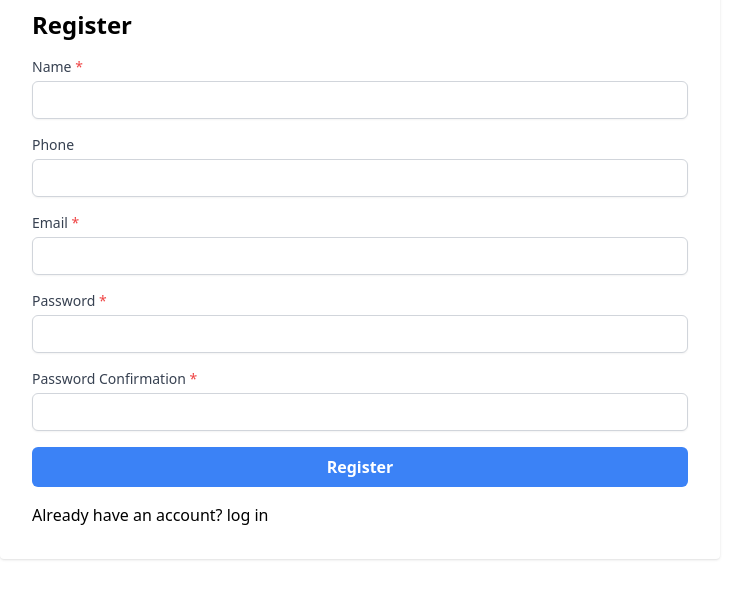
Test: Register page tests › Form validation › Email should be required
Type "email@test.com" into the field with id "email" at {"x": 360, "y": 256}, box [32,237,688,275]
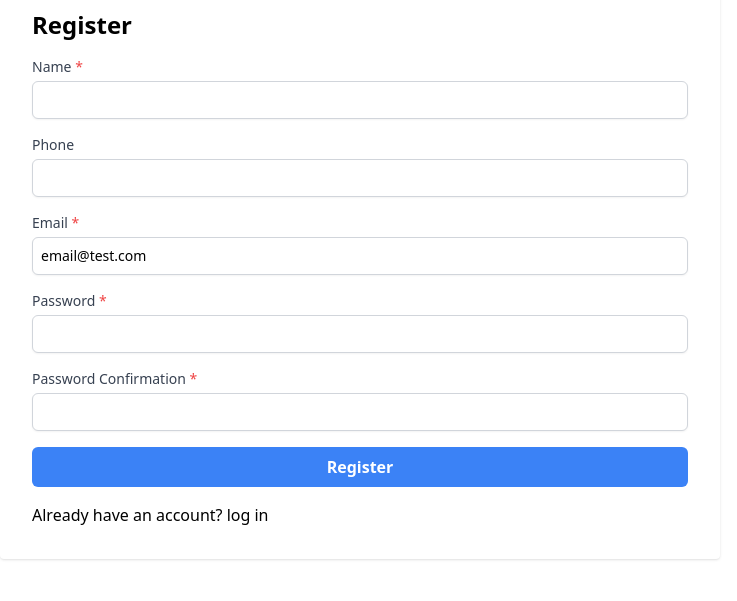
Clear the field with id "email" at {"x": 360, "y": 256}, box [32,237,688,275]
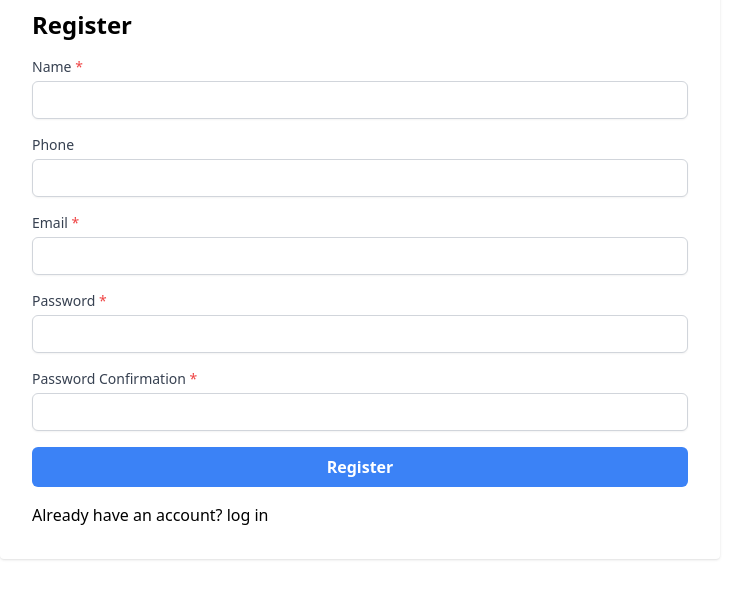
Leave the field with id "email", box [32,237,688,275]
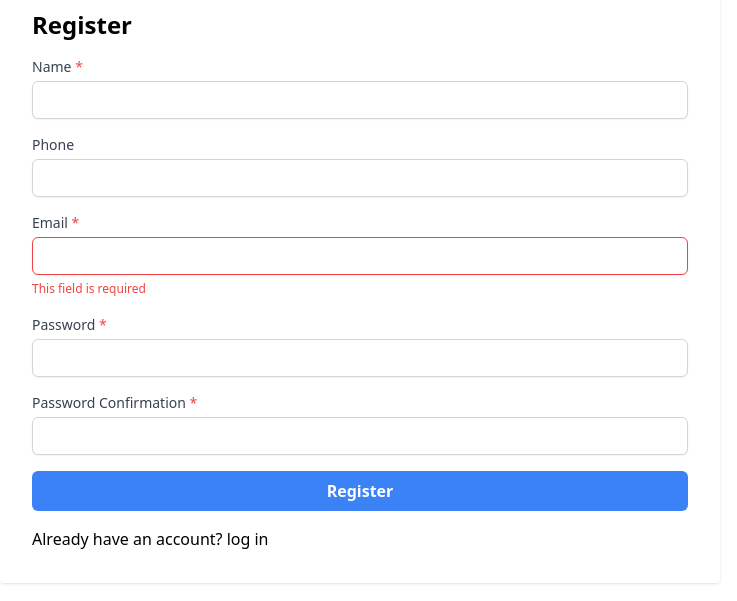
Now the text with id "email-error" reads "This field is required", box [32,280,146,297]
